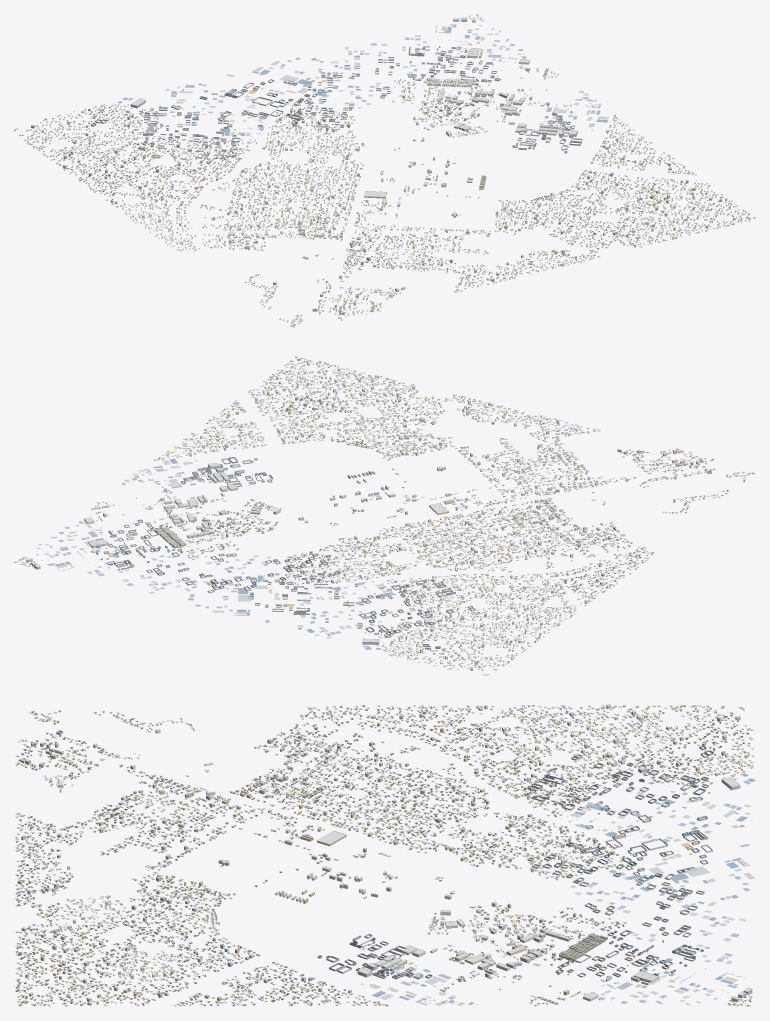
3 views of the same model, one above another, from view 1: azimuth 30°, elevation 25°; view 2: azimuth 150°, elevation 25°; view 3: azimuth 270°, elevation 25° (orthographic). The views are drawn at different scales.
Parts seen in each view (by area): view 1: house, roof_zinc, apartment, factory, roof_flat; view 2: house, roof_zinc, apartment, factory, roof_flat; view 3: house, roof_zinc, apartment, factory, roof_flat.
Part boxes in pixels (left/top/right/bottom): house: left=14, top=14, right=755, bottom=327; roof_zinc: left=14, top=15, right=755, bottom=327; apartment: left=31, top=18, right=735, bottom=320; factory: left=90, top=46, right=582, bottom=311; roof_flat: left=31, top=18, right=735, bottom=319; house: left=14, top=356, right=754, bottom=675; roof_zinc: left=16, top=356, right=755, bottom=674; apartment: left=26, top=362, right=703, bottom=670; factory: left=95, top=457, right=711, bottom=649; roof_flat: left=27, top=362, right=713, bottom=668; house: left=15, top=705, right=754, bottom=1006; roof_zinc: left=14, top=704, right=755, bottom=1005; apartment: left=17, top=704, right=752, bottom=1005; factory: left=56, top=730, right=713, bottom=979; roof_flat: left=18, top=704, right=751, bottom=1003.
Bounding box in the file's own units: 1.4e+08 × 738668 × 1.46e+08.
